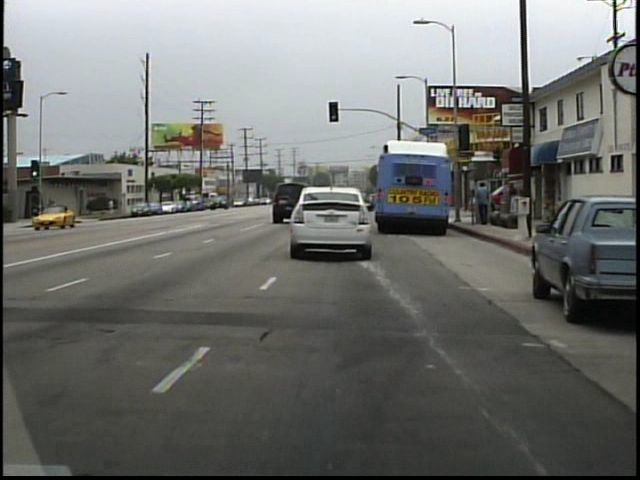person: (471, 180, 492, 229), (108, 194, 118, 217)
